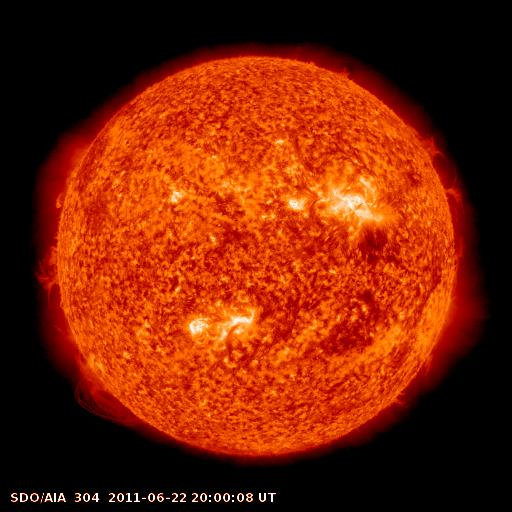prominence: (411, 123, 472, 268), (59, 351, 149, 431), (32, 242, 72, 314), (331, 55, 366, 86), (385, 377, 411, 414), (48, 186, 69, 215)
